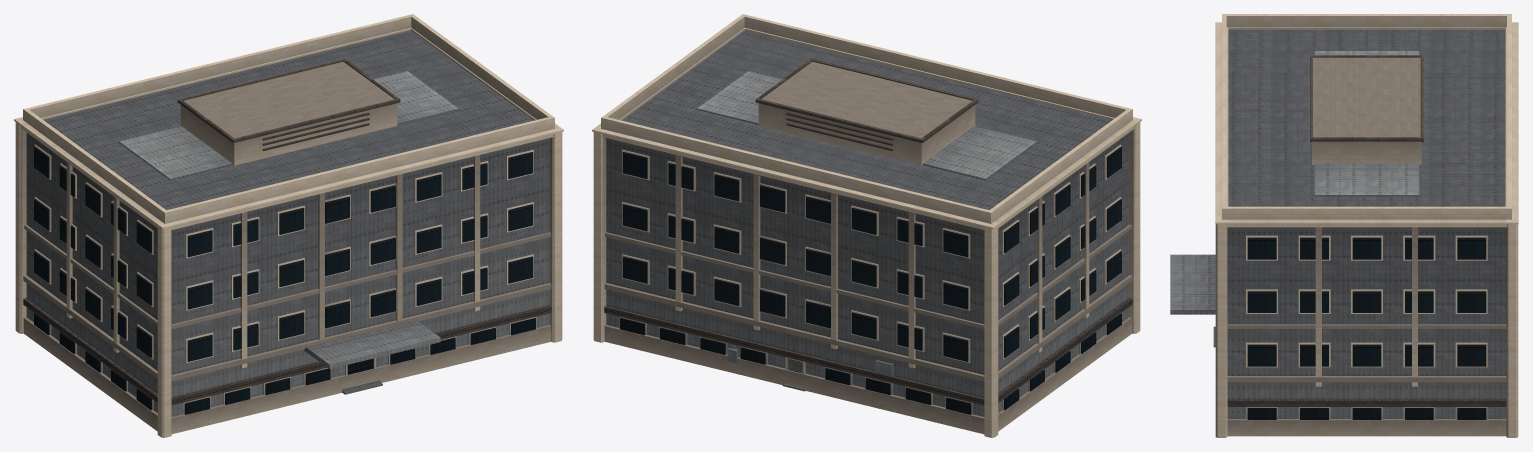
Rendered from foundry-works-hub_lod0.gltf.
3 renders of one model, left to right at view 1: azimuth 30°, elevation 25°; view 2: azimuth 150°, elevation 25°; view 3: azimuth 270°, elevation 25°, orthographic. The views are drawn at different scales.
Parts seen in each view (by area): view 1: foundry-works-hub_main, foundry-works-hub__v4_stone_detail, foundry-works-hub_fen_07-glass-curtain-blue_1_t, foundry-works-hub__parapet, foundry-works-hub_fen_04-limestone_0, foundry-works-hub__timber_band, foundry-works-hub__solar_a, foundry-works-hub__canopy, foundry-works-hub__v4_metal_detail, foundry-works-hub__solar_b; view 2: foundry-works-hub_main, foundry-works-hub__v4_stone_detail, foundry-works-hub_fen_07-glass-curtain-blue_1_t, foundry-works-hub__parapet, foundry-works-hub_fen_04-limestone_0, foundry-works-hub__timber_band, foundry-works-hub__solar_a, foundry-works-hub__v4_metal_detail, foundry-works-hub__solar_b, foundry-works-hub_fen_14-steel-panel_4; view 3: foundry-works-hub_main, foundry-works-hub__v4_stone_detail, foundry-works-hub__parapet, foundry-works-hub_fen_07-glass-curtain-blue_1_t, foundry-works-hub_fen_04-limestone_0, foundry-works-hub__solar_b, foundry-works-hub__canopy, foundry-works-hub__timber_band, foundry-works-hub__v4_metal_detail, foundry-works-hub__solar_a.
Part boxes in pixels (x1=…): foundry-works-hub_main: x1=26, y1=30, x2=549, y2=416; foundry-works-hub__v4_stone_detail: x1=14, y1=14, x2=563, y2=437; foundry-works-hub_fen_07-glass-curtain-blue_1_t: x1=34, y1=147, x2=535, y2=414; foundry-works-hub__parapet: x1=150, y1=31, x2=550, y2=230; foundry-works-hub_fen_04-limestone_0: x1=34, y1=144, x2=536, y2=414; foundry-works-hub__timber_band: x1=23, y1=298, x2=551, y2=405; foundry-works-hub__solar_a: x1=119, y1=126, x2=232, y2=179; foundry-works-hub__canopy: x1=304, y1=320, x2=440, y2=369; foundry-works-hub__v4_metal_detail: x1=177, y1=58, x2=400, y2=150; foundry-works-hub__solar_b: x1=373, y1=71, x2=458, y2=124; foundry-works-hub_main: x1=606, y1=30, x2=1129, y2=416; foundry-works-hub__v4_stone_detail: x1=592, y1=14, x2=1141, y2=437; foundry-works-hub_fen_07-glass-curtain-blue_1_t: x1=620, y1=147, x2=1121, y2=414; foundry-works-hub__parapet: x1=605, y1=30, x2=1042, y2=230; foundry-works-hub_fen_04-limestone_0: x1=619, y1=144, x2=1121, y2=414; foundry-works-hub__timber_band: x1=604, y1=298, x2=1132, y2=405; foundry-works-hub__solar_a: x1=923, y1=126, x2=1036, y2=179; foundry-works-hub__v4_metal_detail: x1=755, y1=58, x2=978, y2=150; foundry-works-hub__solar_b: x1=697, y1=71, x2=782, y2=124; foundry-works-hub_fen_14-steel-panel_4: x1=727, y1=344, x2=893, y2=376; foundry-works-hub_main: x1=1227, y1=29, x2=1506, y2=418; foundry-works-hub__v4_stone_detail: x1=1215, y1=14, x2=1518, y2=437; foundry-works-hub__parapet: x1=1227, y1=29, x2=1506, y2=228; foundry-works-hub_fen_07-glass-curtain-blue_1_t: x1=1247, y1=237, x2=1486, y2=419; foundry-works-hub_fen_04-limestone_0: x1=1246, y1=235, x2=1487, y2=419; foundry-works-hub__solar_b: x1=1314, y1=163, x2=1419, y2=196; foundry-works-hub__canopy: x1=1170, y1=254, x2=1215, y2=314; foundry-works-hub__timber_band: x1=1227, y1=399, x2=1506, y2=406; foundry-works-hub__v4_metal_detail: x1=1310, y1=55, x2=1423, y2=142; foundry-works-hub__solar_a: x1=1314, y1=51, x2=1419, y2=55.
Size of the model in its own units: 36.15 by 20.3 by 26.58.
